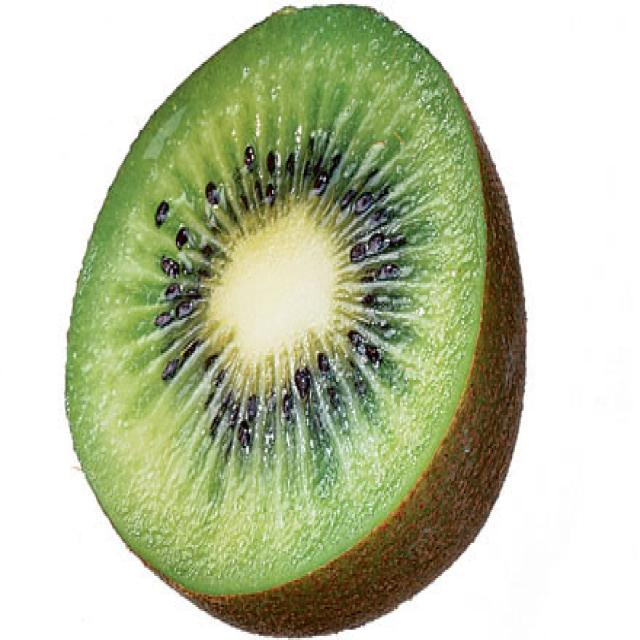Qiwi: (89, 27, 506, 609)
